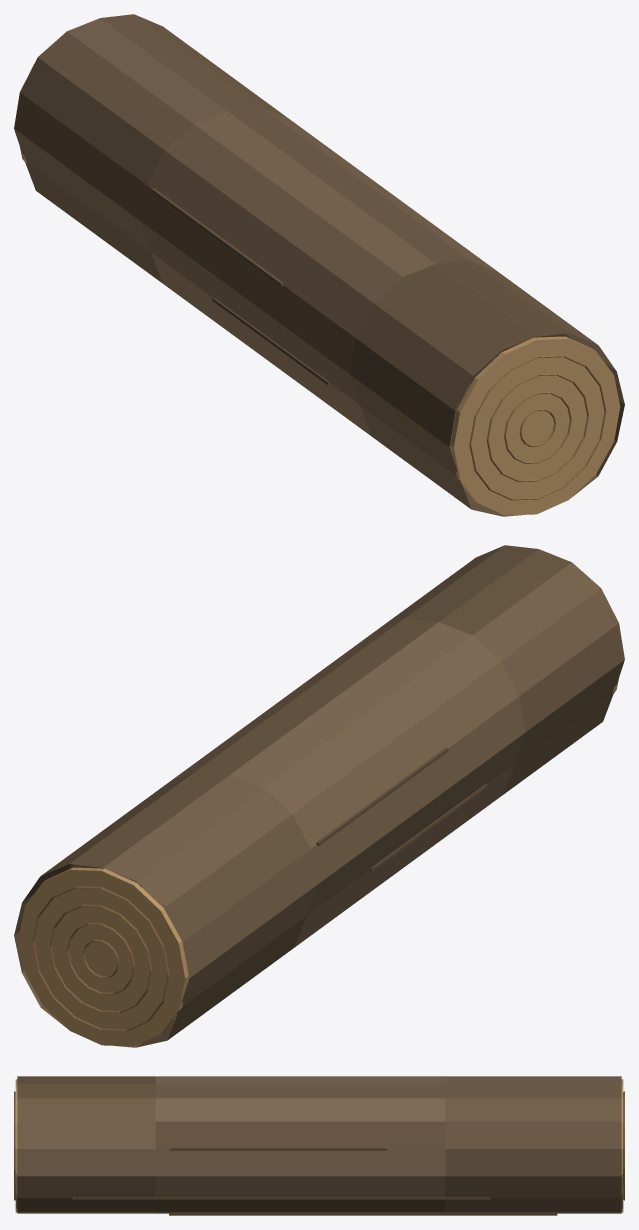
File: camp_log.glb
3 views of the same model, one above another, from view 1: azimuth 30°, elevation 25°; view 2: azimuth 150°, elevation 25°; view 3: azimuth 270°, elevation 25° (orthographic). The views are drawn at different scales.
Visible parts, largest first — view 1: Bark shell, Sawn end, Growth ring.003, Bark fissure.005, Growth ring.002; view 2: Bark shell, Sawn end.001, Growth ring.007, Bark fissure.005, Growth ring.006; view 3: Bark shell, Bark fissure.001, Bark fissure.002, Bark fissure, Sawn end, Sawn end.001, Growth ring.003, Growth ring.007.
Boxes of the visible parts, <box> form: Bark shell: <box>14,14,624,516</box>; Sawn end: <box>450,336,620,515</box>; Growth ring.003: <box>469,355,606,500</box>; Bark fissure.005: <box>151,188,283,286</box>; Growth ring.002: <box>486,373,588,481</box>; Bark shell: <box>14,545,624,1047</box>; Sawn end.001: <box>18,867,188,1046</box>; Growth ring.007: <box>32,886,169,1031</box>; Bark fissure.005: <box>316,747,448,845</box>; Growth ring.006: <box>50,904,152,1012</box>; Bark shell: <box>17,1076,621,1213</box>; Bark fissure.001: <box>72,1197,490,1199</box>; Bark fissure.002: <box>169,1213,557,1215</box>; Bark fissure: <box>169,1147,387,1150</box>; Sawn end: <box>15,1079,17,1212</box>; Sawn end.001: <box>621,1079,623,1212</box>; Growth ring.003: <box>14,1091,15,1200</box>; Growth ring.007: <box>623,1091,624,1200</box>.
Bounding box in the file's own units: 0.5578 × 0.538 × 2.43.
